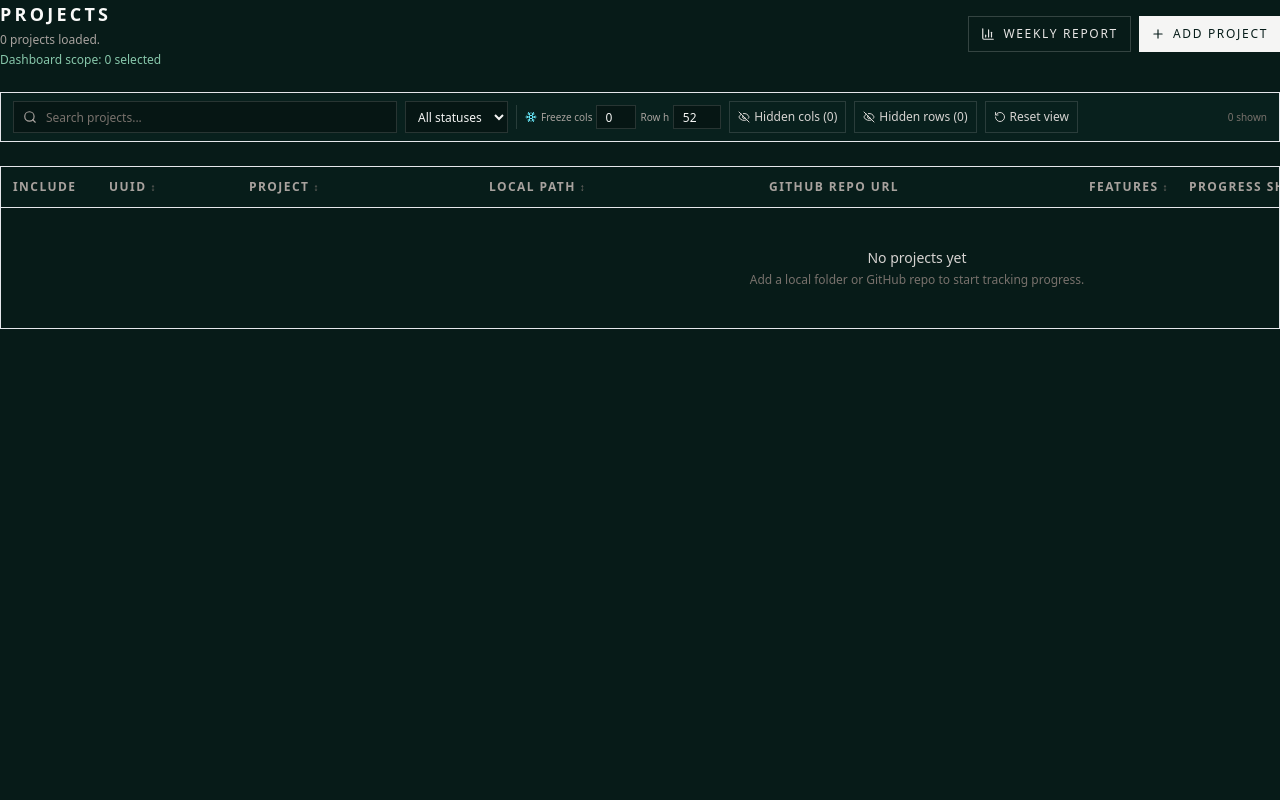
Test: Add Project modal — Finder folder picker › shows a recovery hint when the native dialog chunk is stale
This screenshot has width=1280, height=800.
Step 1. Click the button "Add Project" → (1209, 34), box [1139,16,1279,52]
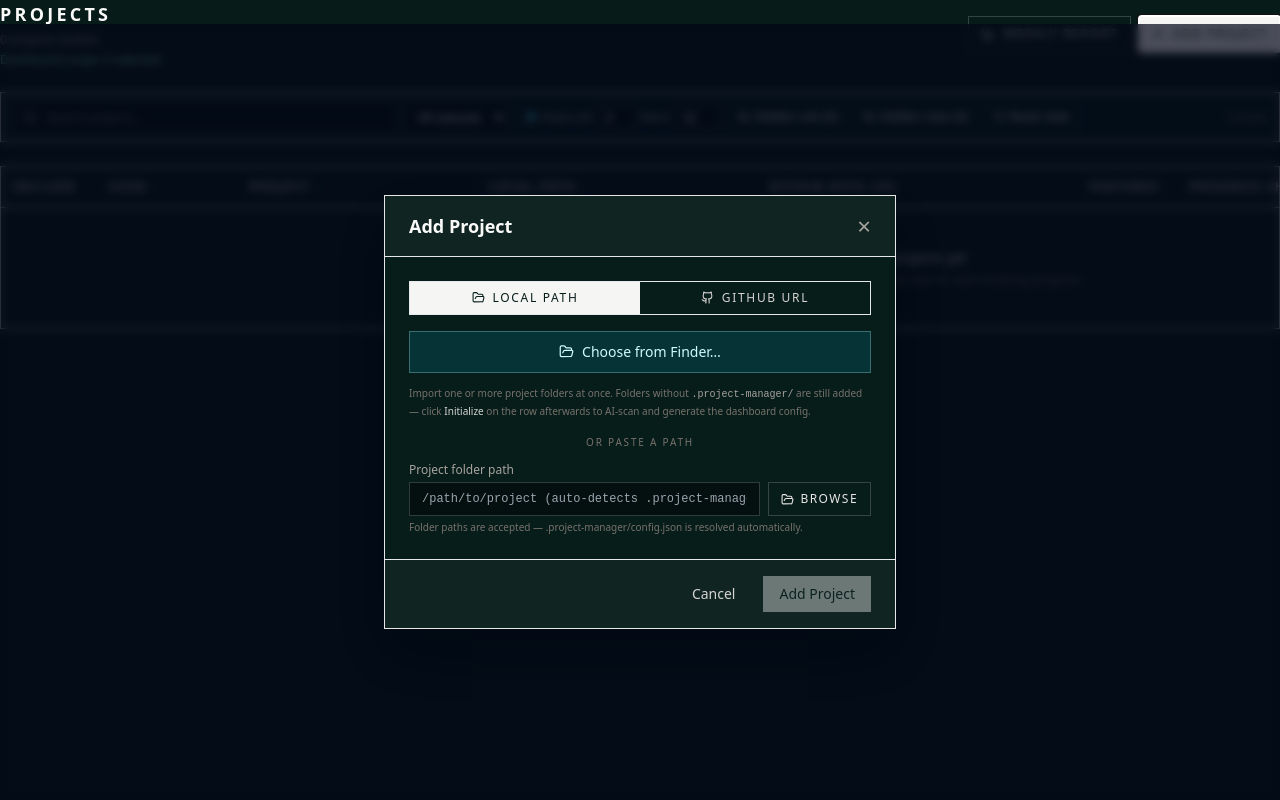
Step 2. Click the button "Choose from Finder…" → (640, 352), box [409,331,871,373]
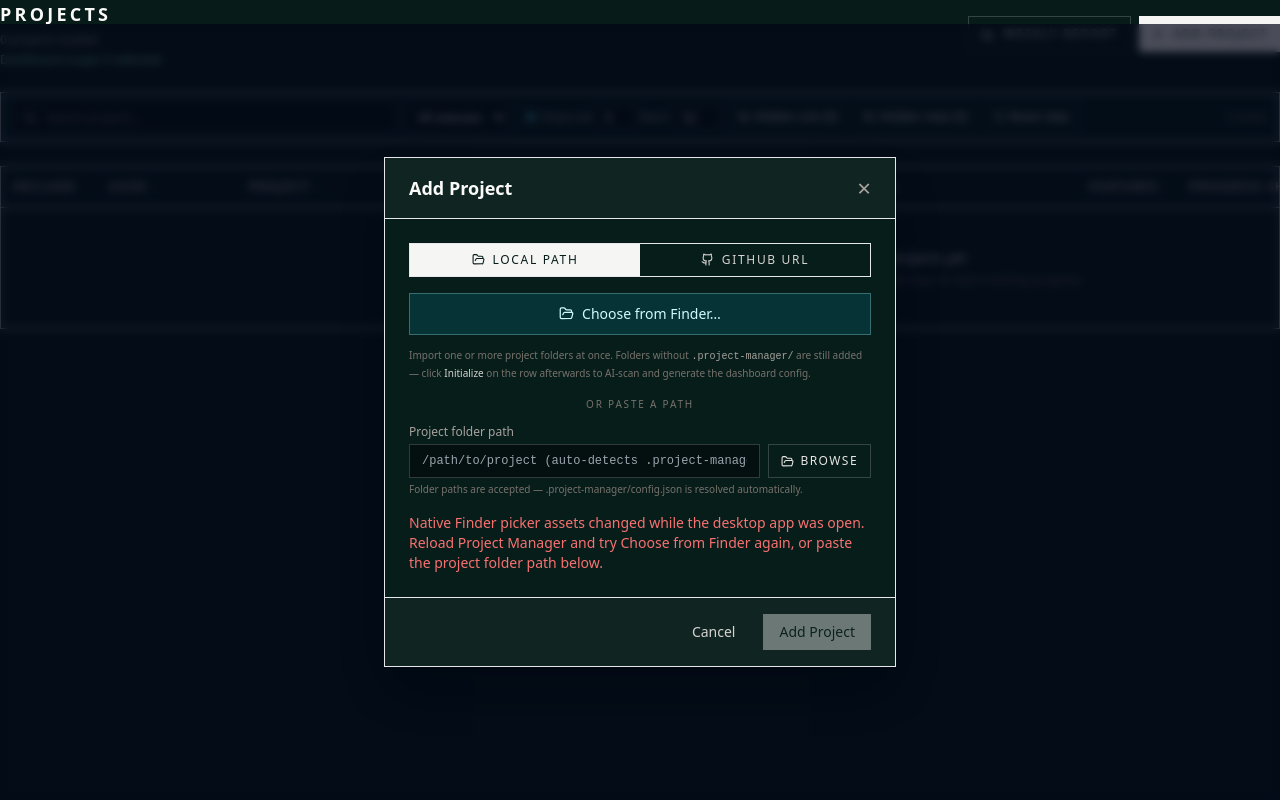
Expected: the text "Native Finder picker assets changed while the desktop app was open" is shown, [409,513,865,572]
